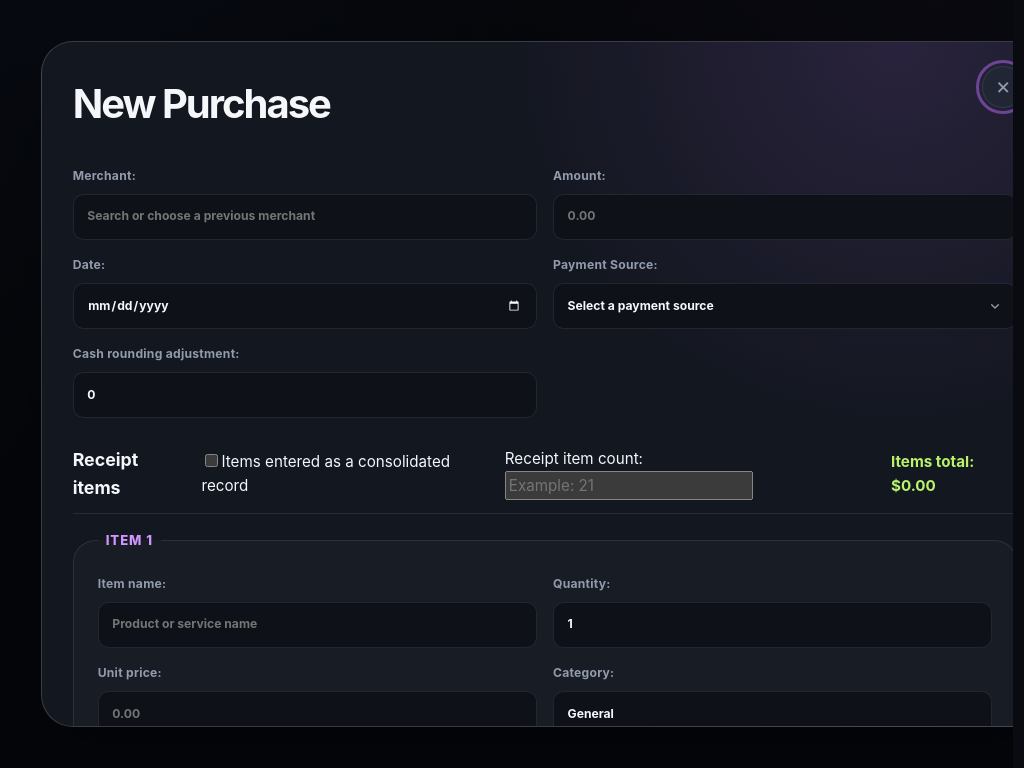
Test: NewPurchaseForm › shows an error when receipt total does not match item total
This screenshot has width=1024, height=768.
Type "Demo Market" into the field with placeholder "Search or choose a previous merchant" at point(305, 217), box [73, 194, 537, 240]
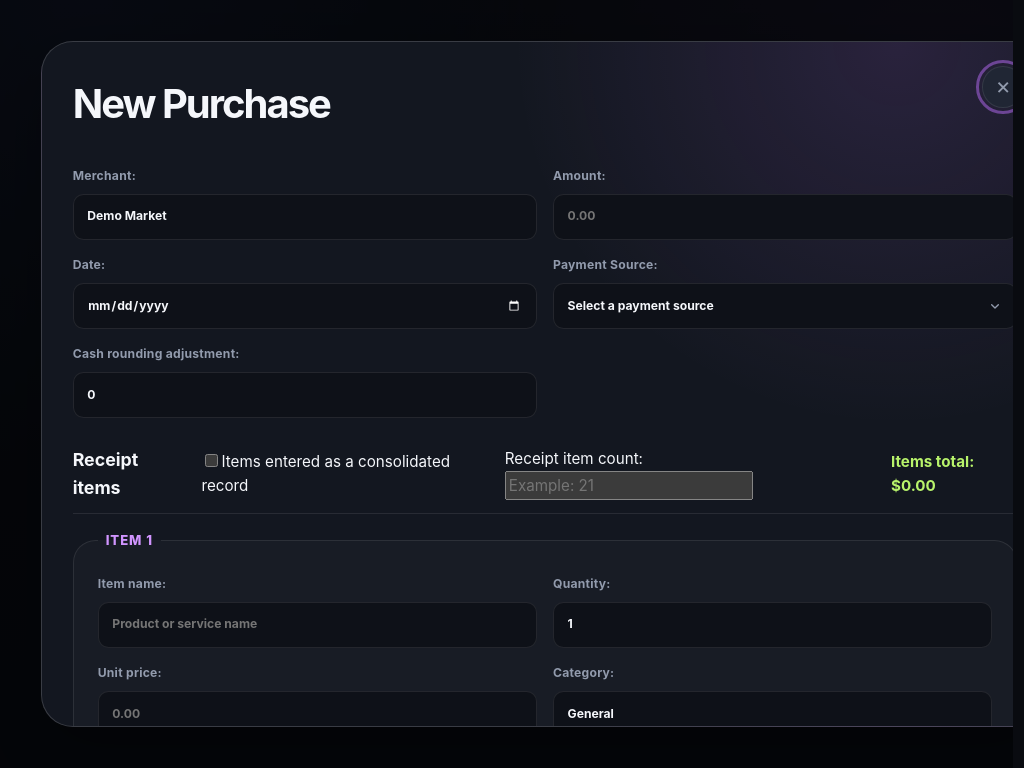
Type "12.50" into the number field labelled "Amount:" at point(785, 217), box [553, 194, 1017, 240]
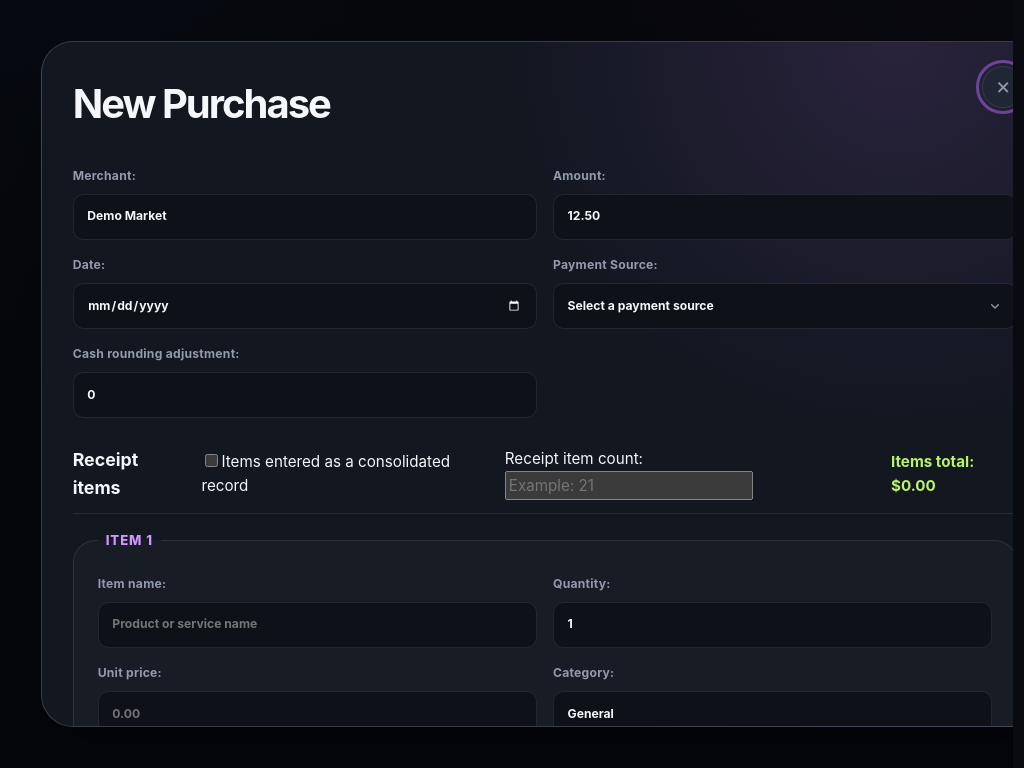
Type "2026-01-15" into the date field labelled "Date:" at point(305, 306), box [73, 283, 537, 329]
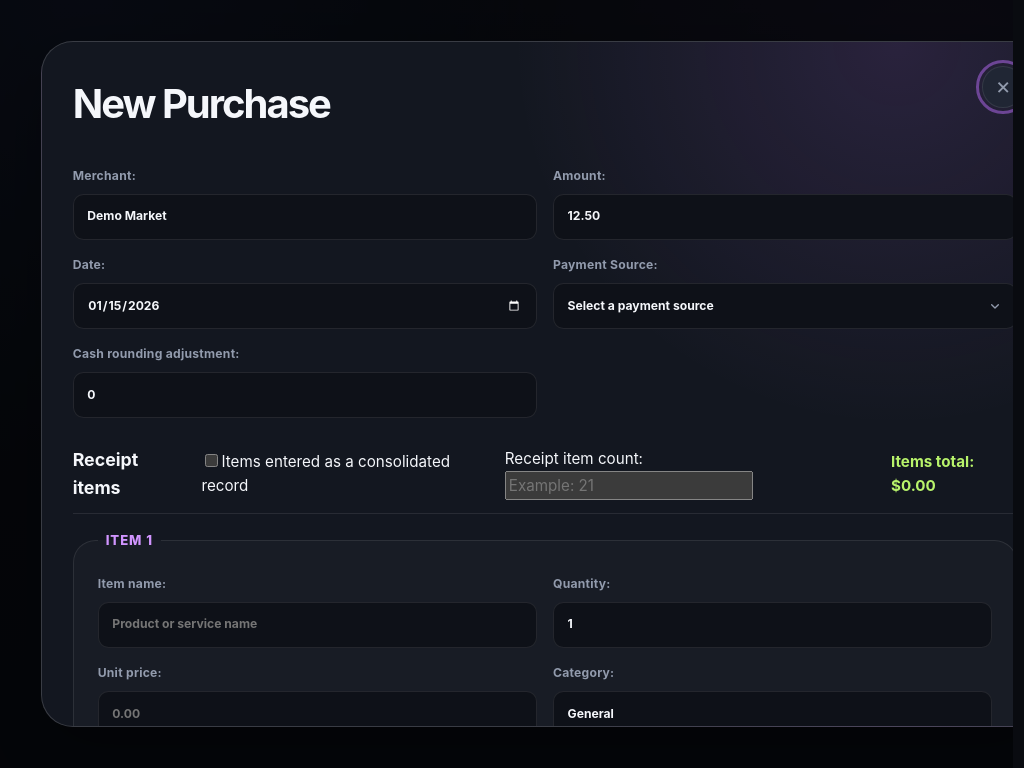
Select "Demo Account" in the dropdown labelled "Payment Source:" at point(785, 306), box [553, 283, 1017, 329]
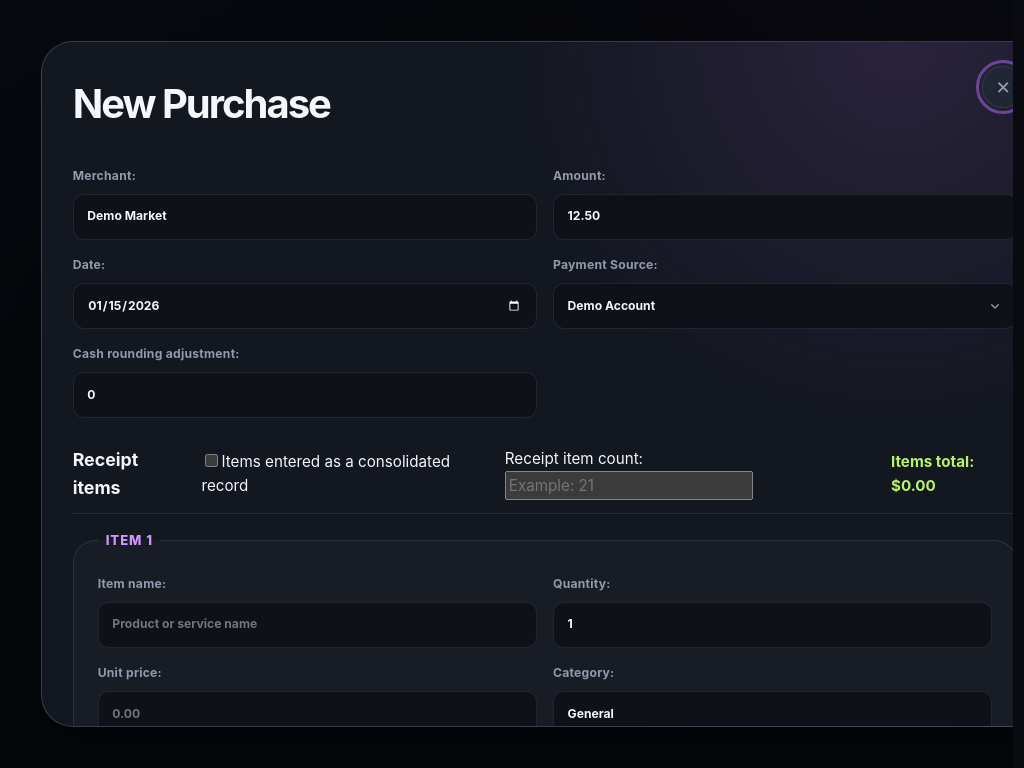
Type "Demo groceries" into the field with placeholder "Product or service name" at point(317, 625), box [98, 602, 537, 648]
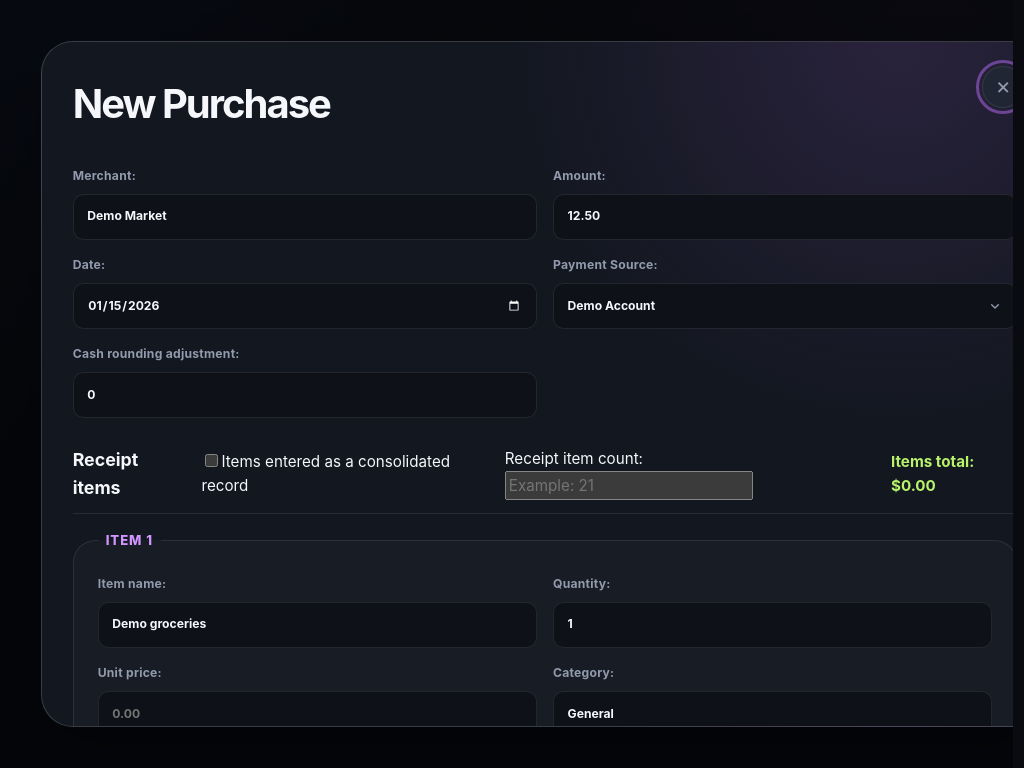
Type "10.00" into the number field with placeholder "0.00" at point(317, 714), box [98, 691, 537, 737]
(page scrolled)
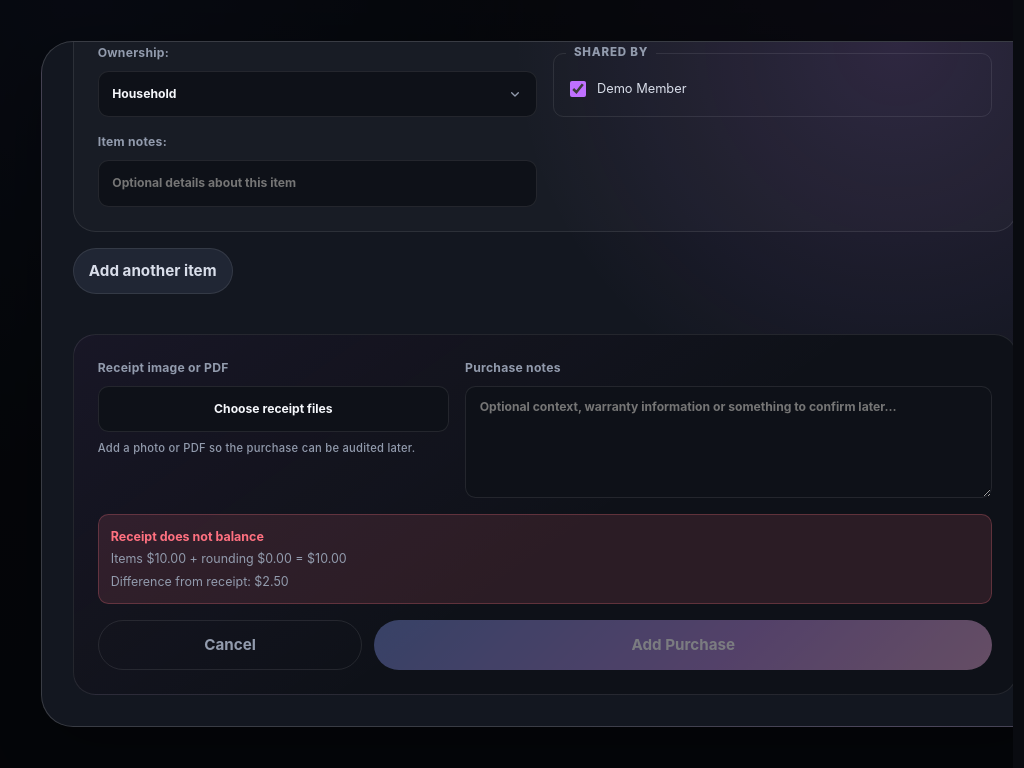
Expected: the text "Receipt does not balance" is shown, [111, 529, 264, 544]
Expected: the button "Add Purchase" is disabled, [374, 620, 992, 670]
